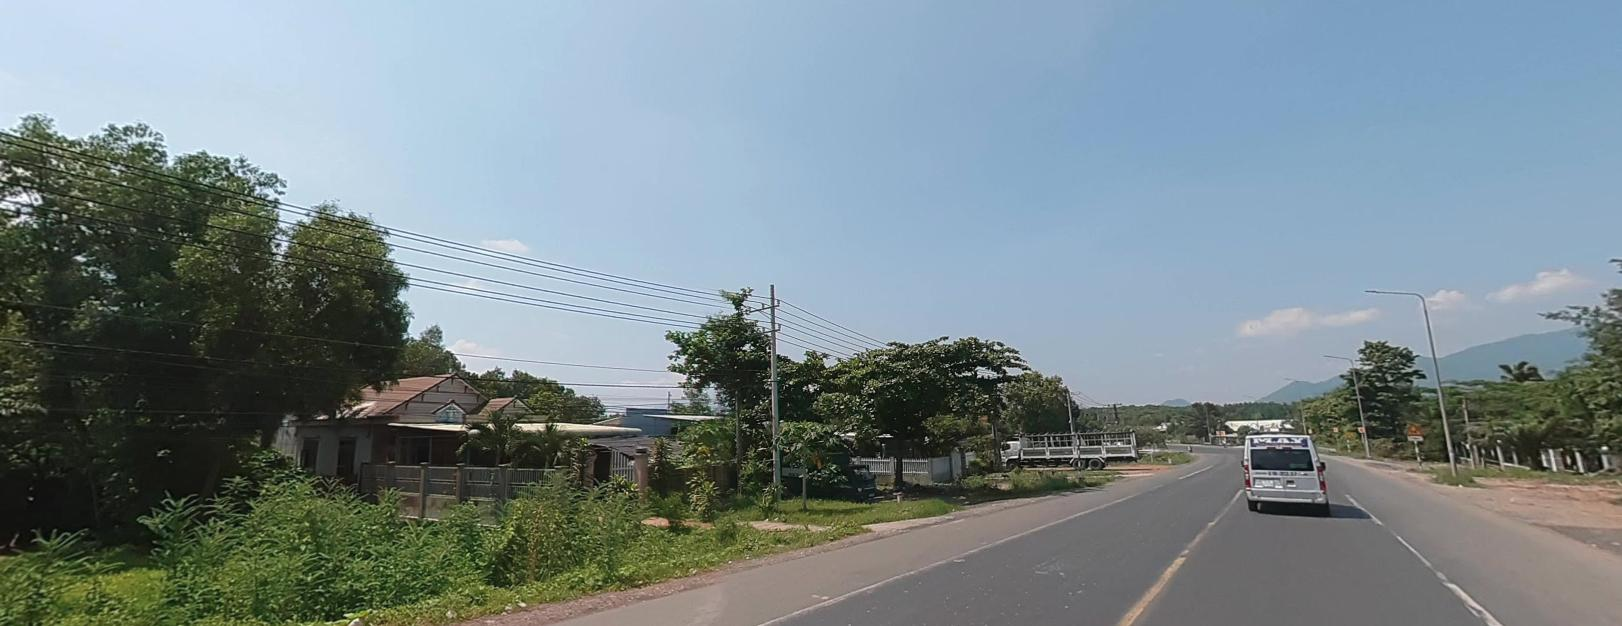Nguy hiem: (1405, 422, 1422, 434)
